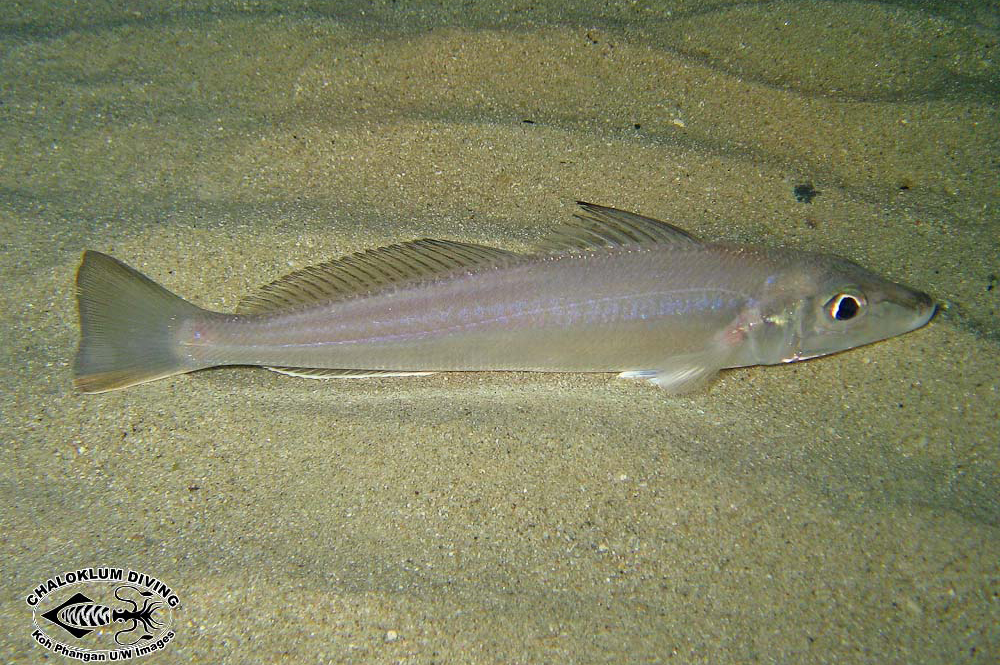kiss: (64, 198, 940, 429)
